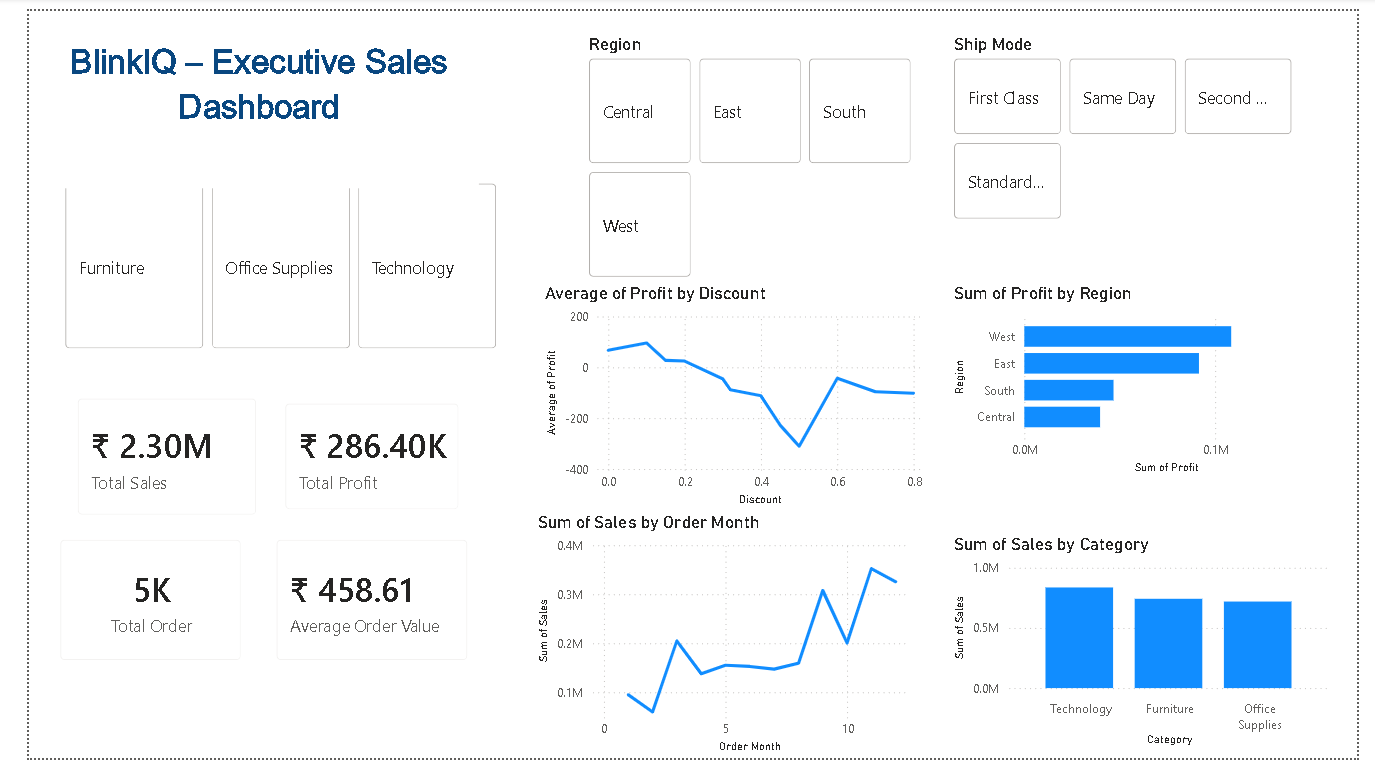

What the dashboard file says about the page in this screenshot:
{"tool":"powerbi","page":{"name":"Page 1","canvas":[1280,720],"ordinal":0},"visuals":[{"type":"cardVisual","fields":{"Data":["Sum(cleaneddata.Sales)"]},"box":[30,356.7,206.7,146.7],"z":0},{"type":"cardVisual","fields":{"Data":["Sum(cleaneddata.Profit)"]},"box":[230,361.7,201.7,136.7],"z":1000},{"type":"cardVisual","fields":{"Data":["Count(cleaneddata.Order ID)"]},"box":[13.3,493.3,208.3,150],"z":2000},{"type":"cardVisual","fields":{"Data":["cleaneddata.Average Order Value"]},"box":[221.7,493.3,218.3,150],"z":3000},{"type":"lineChart","fields":{"Y":["Sum(cleaneddata.Sales)"],"Category":["cleaneddata.Order Month"]},"box":[485,481.7,365,238.3],"z":4000},{"type":"barChart","fields":{"Category":["cleaneddata.Region"],"Y":["Sum(cleaneddata.Profit)"]},"box":[886.7,261.7,366.7,190],"z":5000},{"type":"columnChart","fields":{"Category":["cleaneddata.Category"],"Y":["Sum(cleaneddata.Sales)"]},"box":[886.7,503.3,373.3,210],"z":6000},{"type":"advancedSlicerVisual","fields":{"Values":["cleaneddata.Category"]},"box":[30,141.7,425,188.3],"z":7000},{"type":"advancedSlicerVisual","fields":{"Values":["cleaneddata.Region"]},"box":[535,21.7,321.7,240],"z":8000},{"type":"advancedSlicerVisual","fields":{"Values":["cleaneddata.Ship Mode"]},"box":[886.7,21.7,336.7,185],"z":9000},{"type":"lineChart","fields":{"Category":["cleaneddata.Discount"],"Y":["Avg(cleaneddata.Profit)"]},"box":[493.3,261.7,375,220],"z":10000},{"type":"textbox","box":[10,21,424,150],"z":11000}]}

Visuals, with their boxes in screenshot pixels (x1, y1, x2, y2), scaled from the page's 1280x720 canvas onto the 1375x781 screenshot:
cardVisual - Sum(cleaneddata.Sales): Rect(32, 387, 254, 546)
cardVisual - Sum(cleaneddata.Profit): Rect(247, 392, 464, 541)
cardVisual - Count(cleaneddata.Order ID): Rect(14, 535, 238, 698)
cardVisual - cleaneddata.Average Order Value: Rect(238, 535, 473, 698)
lineChart - Sum(cleaneddata.Sales) x cleaneddata.Order Month: Rect(521, 523, 913, 780)
barChart - cleaneddata.Region x Sum(cleaneddata.Profit): Rect(953, 284, 1346, 490)
columnChart - cleaneddata.Category x Sum(cleaneddata.Sales): Rect(953, 546, 1354, 774)
advancedSlicerVisual - cleaneddata.Category: Rect(32, 154, 489, 358)
advancedSlicerVisual - cleaneddata.Region: Rect(575, 24, 920, 284)
advancedSlicerVisual - cleaneddata.Ship Mode: Rect(953, 24, 1314, 224)
lineChart - cleaneddata.Discount x Avg(cleaneddata.Profit): Rect(530, 284, 933, 523)
textbox: Rect(11, 23, 466, 185)
